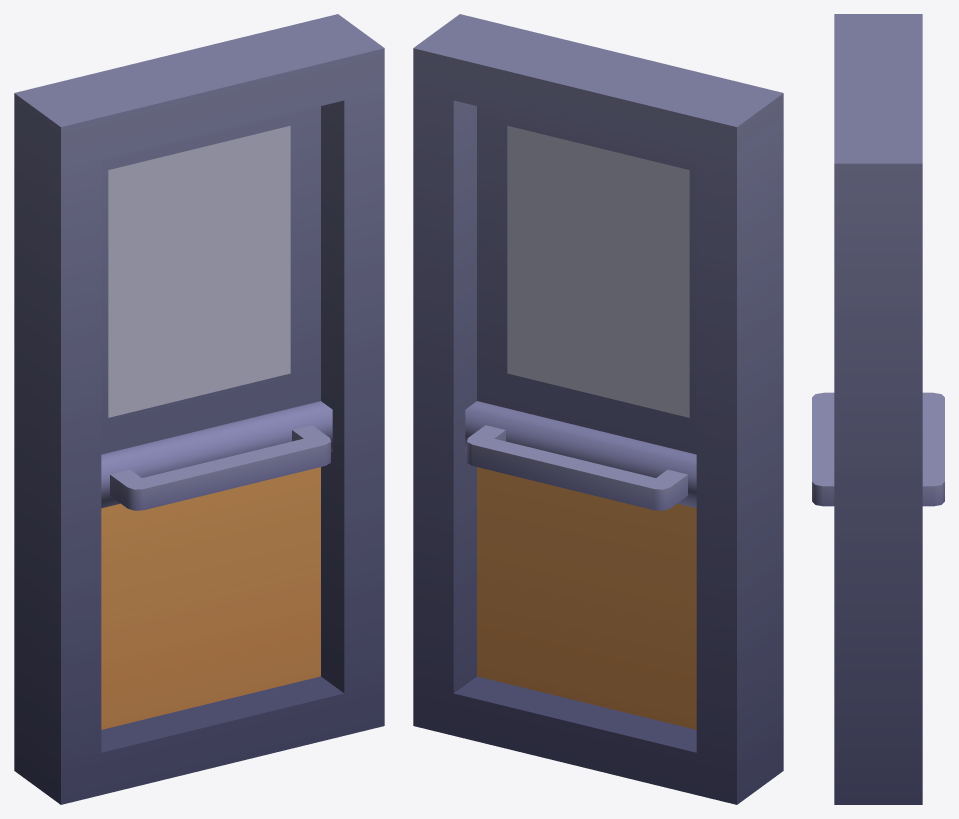
Rendered from kenney-factory-door.glb.
The picture shows the model from 3 angles, left to right: view 1: azimuth 30°, elevation 25°; view 2: azimuth 150°, elevation 25°; view 3: azimuth 270°, elevation 25°; orthographic projection. The views are drawn at different scales.
Parts seen in each view (by area): view 1: door; view 2: door; view 3: door.
Part boxes in pixels (<box>): door: <box>14,14,384,804</box>; door: <box>413,14,783,804</box>; door: <box>812,14,944,804</box>.
Size of the model in its own units: 0.8001 by 1.6 by 0.3.
Materials: 1 (1 with a texture image).
